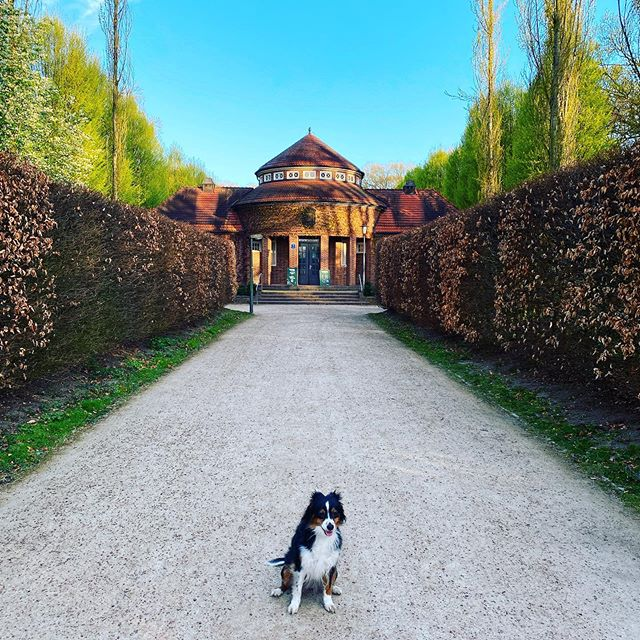animal: (263, 486, 349, 621)
building: (185, 152, 446, 307)
road: (10, 310, 585, 636)
sky: (104, 1, 506, 170)
vegetation: (387, 1, 640, 422), (1, 8, 232, 456)
